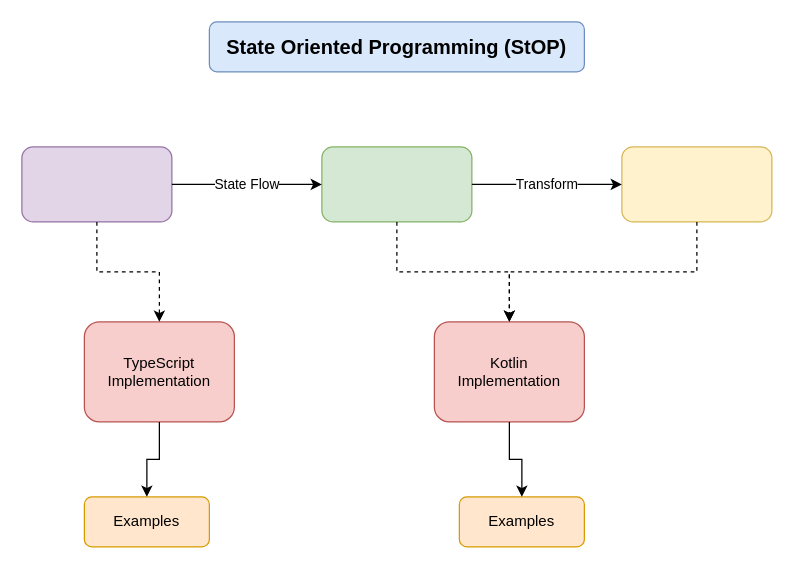
Image size: 794x569. Some labels were removed from this diagram. Each missing label, with the box of its shape:
State Container: (21, 146, 172, 222)
State Processor: (321, 146, 472, 222)
State Transformer: (621, 146, 772, 222)
